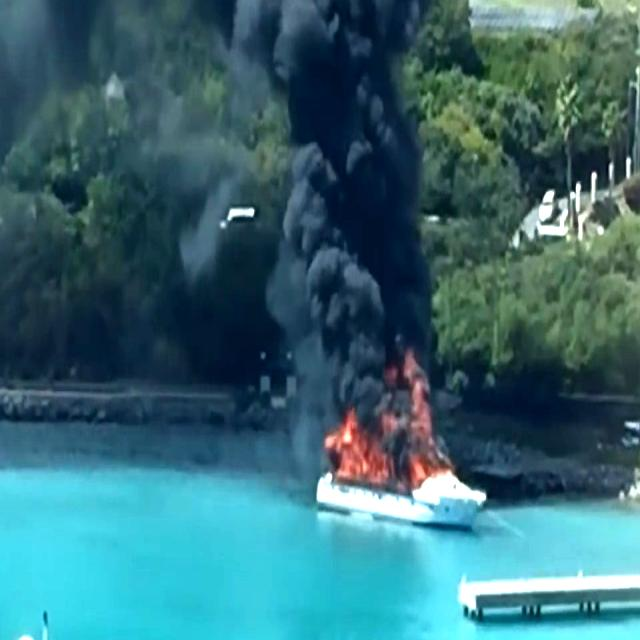fire: (337, 407, 434, 503)
smoke: (243, 0, 429, 367)
